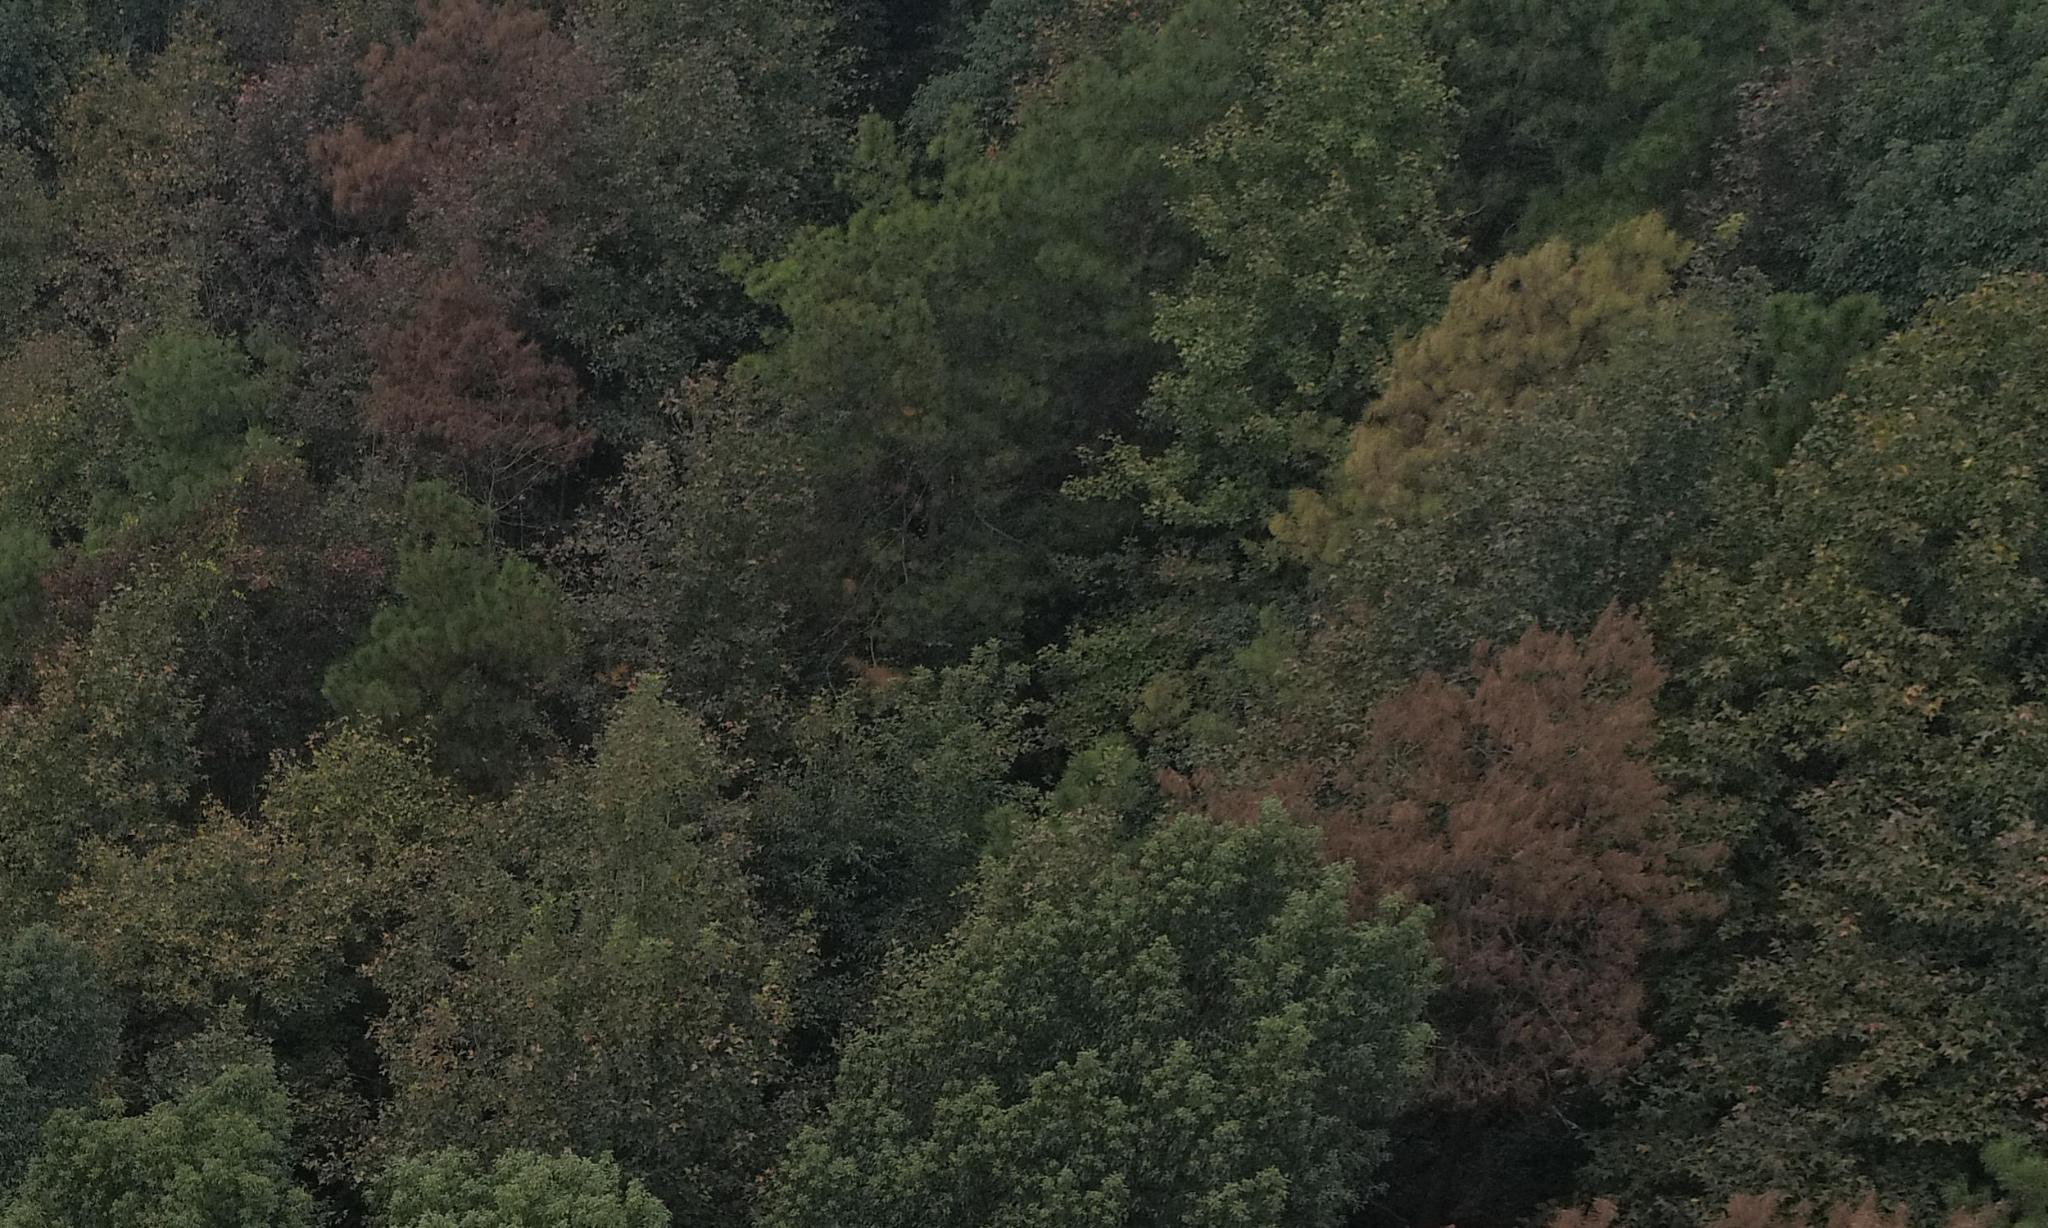heavy: (1183, 613, 1706, 1088)
